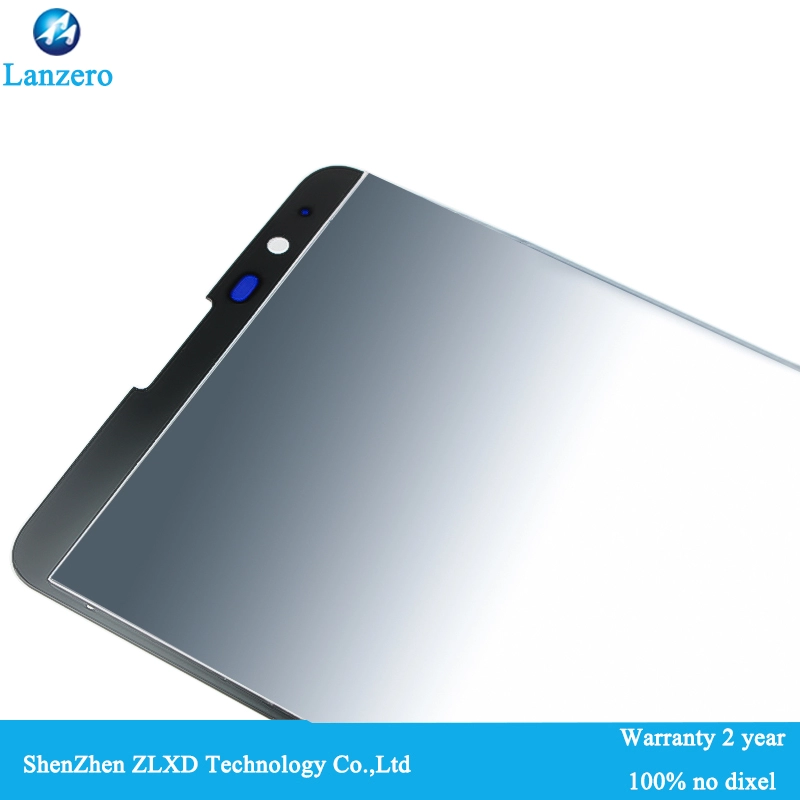Phone: (9, 159, 800, 720)
